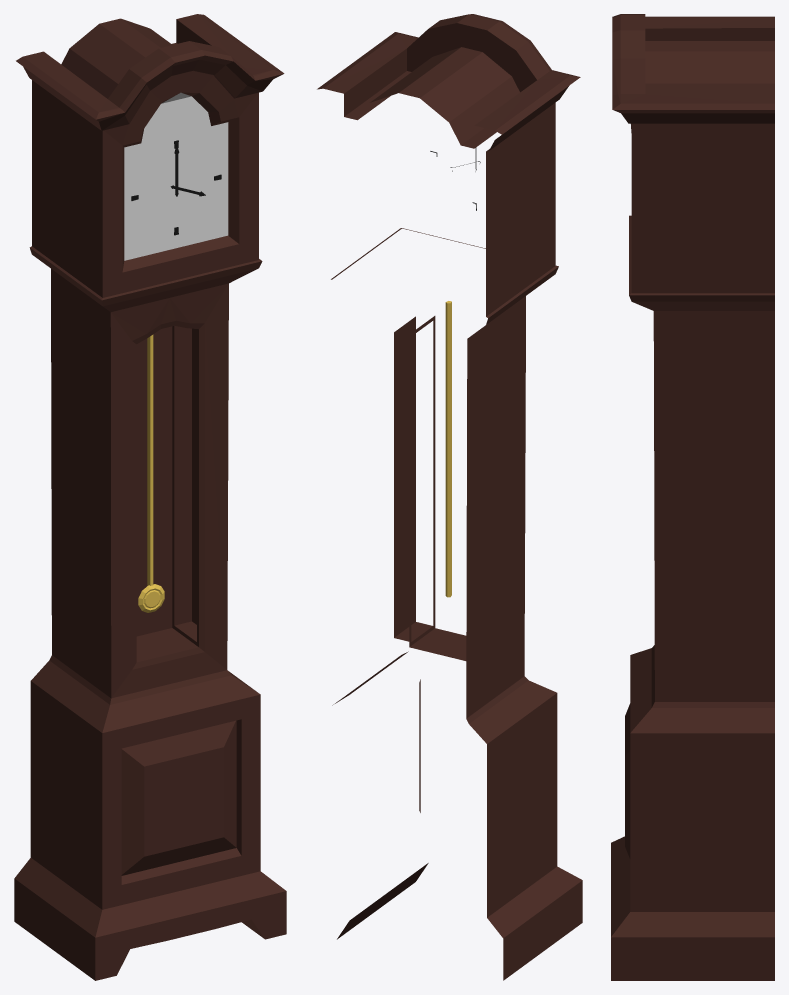
File: Grandfathers Clock.glb
The picture shows the model from 3 angles, left to right: view 1: azimuth 30°, elevation 25°; view 2: azimuth 150°, elevation 25°; view 3: azimuth 270°, elevation 25°; orthographic projection. The views are drawn at different scales.
Visible parts, largest first — view 1: Grandfathers_clock; view 2: Grandfathers_clock; view 3: Grandfathers_clock.
Boxes of the visible parts, x1,y1,x2,y2 form: Grandfathers_clock: (14,14,286,980); Grandfathers_clock: (317,14,582,980); Grandfathers_clock: (611,14,774,980).
Bounding box in the file's own units: 0.3032 × 1.36 × 0.2224.
Materials: 1 (1 with a texture image).
